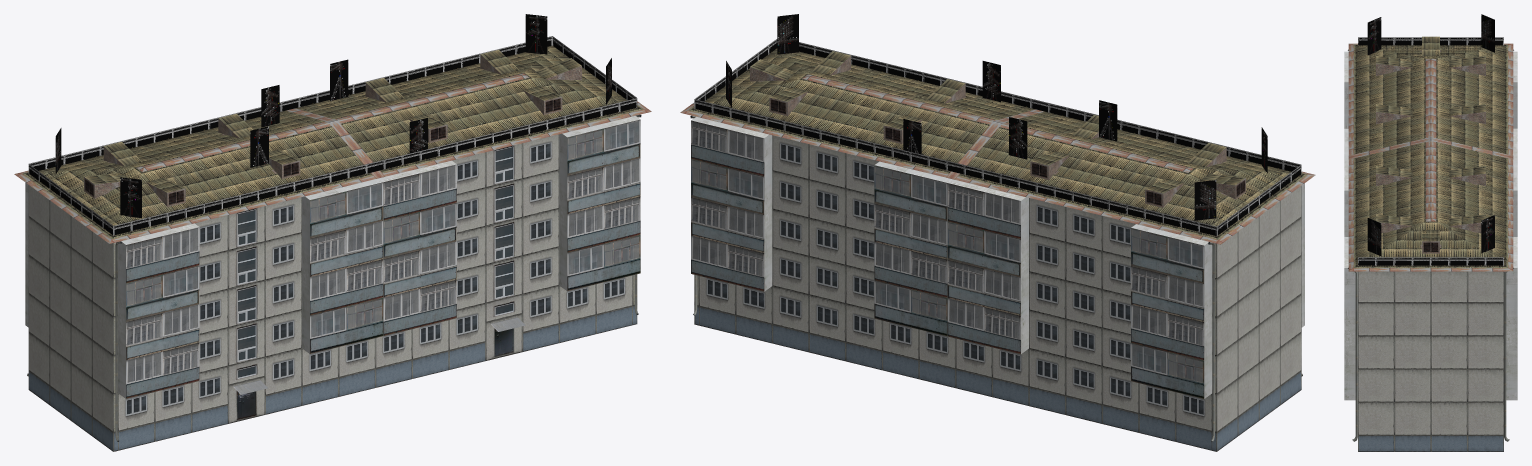
Rendered from rus_build_5et_01.fbx.
3 renders of one model, left to right at view 1: azimuth 30°, elevation 25°; view 2: azimuth 150°, elevation 25°; view 3: azimuth 270°, elevation 25°, orthographic. The views are drawn at different scales.
Visible parts, largest first — view 1: Regroup13, rus_build_dec_01; view 2: Regroup13, rus_build_dec_01; view 3: Regroup13, rus_build_dec_01.
Part boxes in pixels (<box>): Regroup13: <box>14,45,651,451</box>; rus_build_dec_01: <box>28,14,637,235</box>; Regroup13: <box>680,48,1315,451</box>; rus_build_dec_01: <box>694,14,1301,235</box>; Regroup13: <box>1344,36,1517,451</box>; rus_build_dec_01: <box>1358,14,1503,265</box>.
Bounding box in the file's own units: 4130 × 1925 × 1330.
